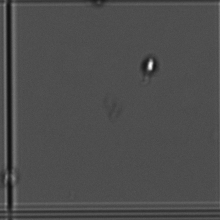Living Cell: (139, 54, 160, 78)
